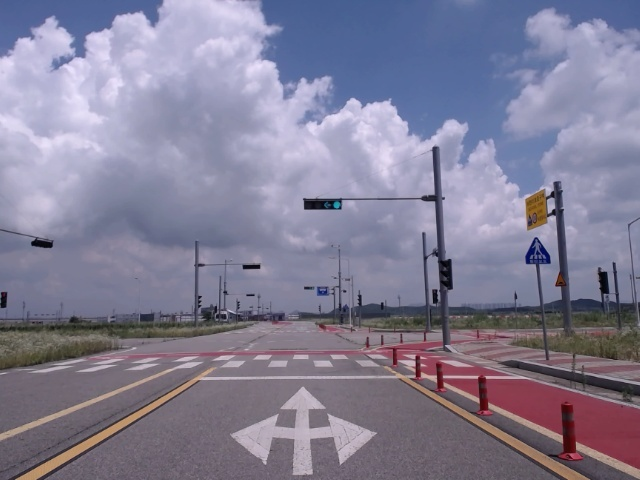all_green_4: (301, 193, 342, 211)
